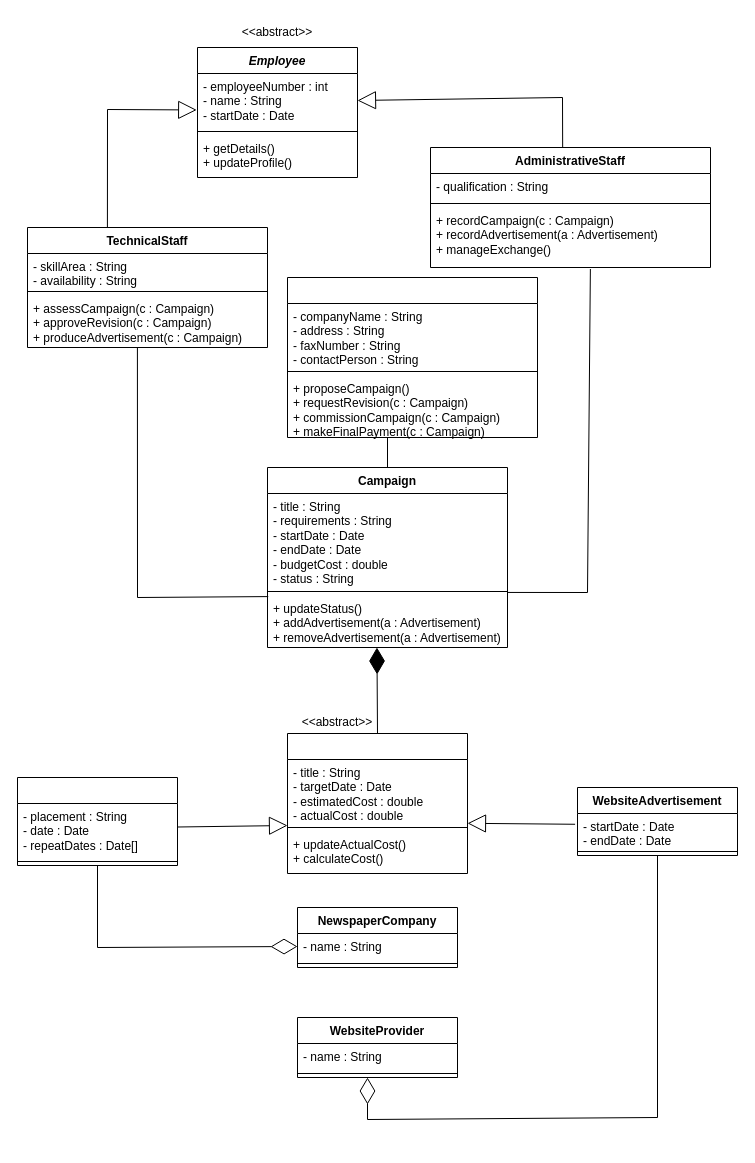
Image size: 755x1163. Some labels were removed from this diagram. The shapes that lost their labels are listed below. From the top down, each one's box as (x1, y1, x2, y2) in pixels, then its label:
(286, 276, 538, 438): Customer
(16, 776, 178, 866): NewspaperAdvertisement
(286, 732, 468, 874): Advertisement
